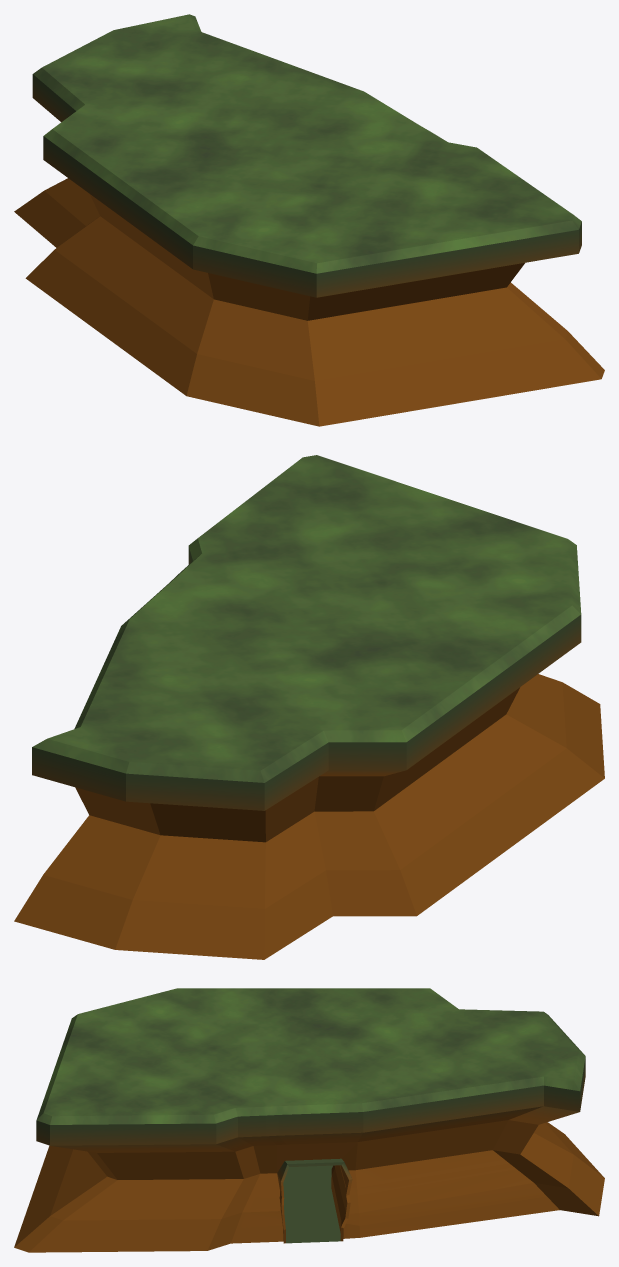
File: E1_Terreno_Lvl1_T.fbx
3 views of the same model, one above another, from view 1: azimuth 30°, elevation 25°; view 2: azimuth 150°, elevation 25°; view 3: azimuth 270°, elevation 25° (orthographic). The views are drawn at different scales.
Parts seen in each view (by area): view 1: E1_modelosBlockout_nivel1; view 2: E1_modelosBlockout_nivel1; view 3: E1_modelosBlockout_nivel1.
Part boxes in pixels (left/top/right/bottom): E1_modelosBlockout_nivel1: left=14, top=14, right=604, bottom=426; E1_modelosBlockout_nivel1: left=14, top=455, right=604, bottom=959; E1_modelosBlockout_nivel1: left=14, top=988, right=604, bottom=1252.
Bounding box in the file's own units: 6843 × 2874 × 11897.
